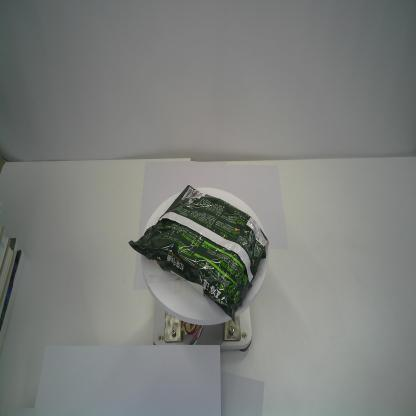Instant Noodles: (126, 184, 270, 327)
